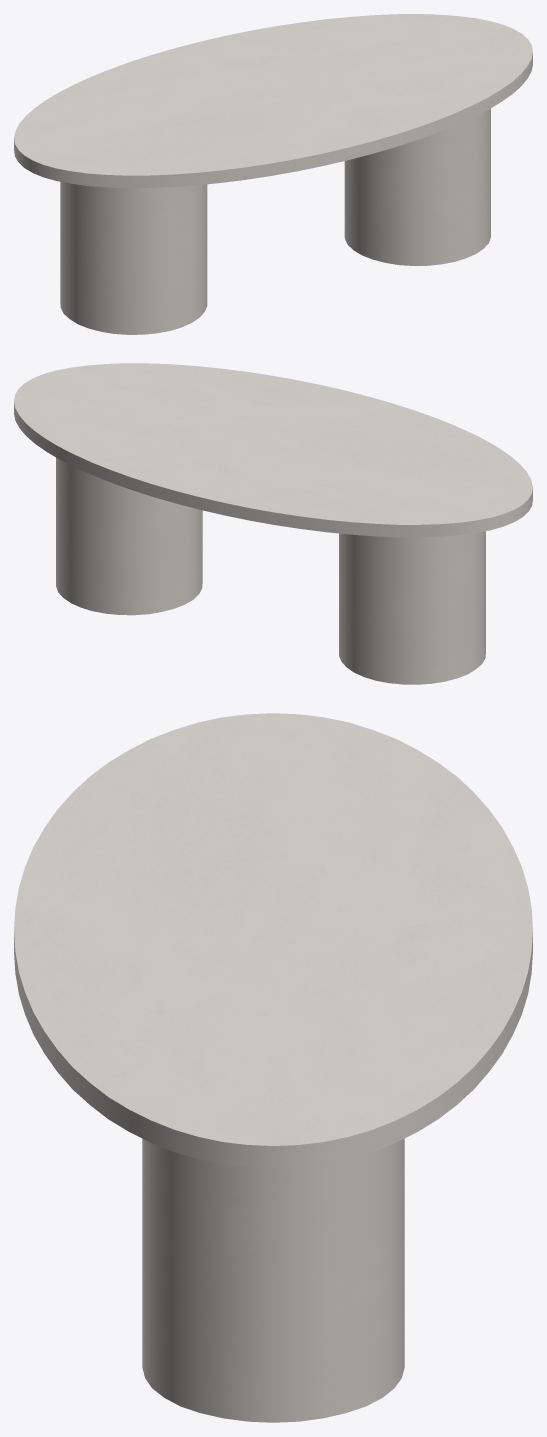
Rendered from pearlwhite_ellips_standard_stream.glb.
The picture shows the model from 3 angles, top to bottom: view 1: azimuth 30°, elevation 25°; view 2: azimuth 150°, elevation 25°; view 3: azimuth 270°, elevation 25°; orthographic projection. The views are drawn at different scales.
Visible parts, largest first — view 1: pearlwhite_ellipsstandard_stream; view 2: pearlwhite_ellipsstandard_stream; view 3: pearlwhite_ellipsstandard_stream.
Part boxes in pixels (x1,y1,x2,y2): pearlwhite_ellipsstandard_stream: (14,14,532,334); pearlwhite_ellipsstandard_stream: (14,363,532,684); pearlwhite_ellipsstandard_stream: (14,713,532,1422).
Bounding box in the file's own units: 7.5 × 2.52 × 3.8.
1 material, 1 textured.
